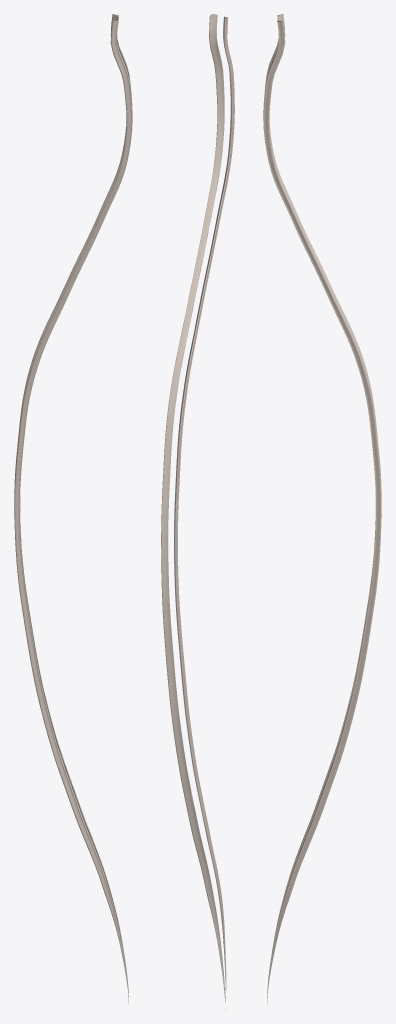
Rendered from nervoso-posterior-horn-of-spinal-cord.glb.
3 renders of one model, left to right at view 1: azimuth 90°, elevation 25°; view 2: azimuth 150°, elevation 25°; view 3: azimuth 270°, elevation 25°, orthographic.
Visible parts, largest first — view 1: Posterior horn of spinal cord; view 2: Posterior horn of spinal cord; view 3: Posterior horn of spinal cord.
Boxes of the visible parts, box(x1,y1,x2,y2) form: Posterior horn of spinal cord: box(14, 14, 132, 1003); Posterior horn of spinal cord: box(161, 14, 234, 1009); Posterior horn of spinal cord: box(263, 14, 381, 1003).
Bounding box in the file's own units: 0.00826 × 0.4902 × 0.053.
